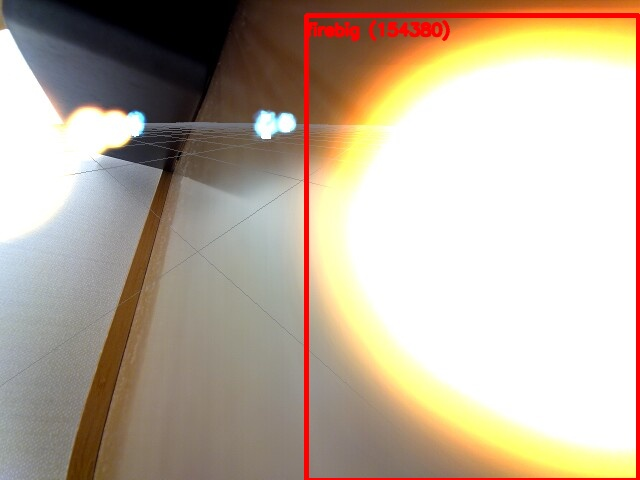firebig: (306, 15, 638, 480)
